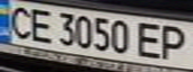0: (109, 17, 133, 55), (72, 13, 93, 51)
3: (51, 10, 78, 47)
5: (90, 15, 112, 53)
C: (3, 2, 36, 39)
E: (133, 20, 166, 60), (24, 6, 57, 44)
P: (157, 23, 193, 62)
